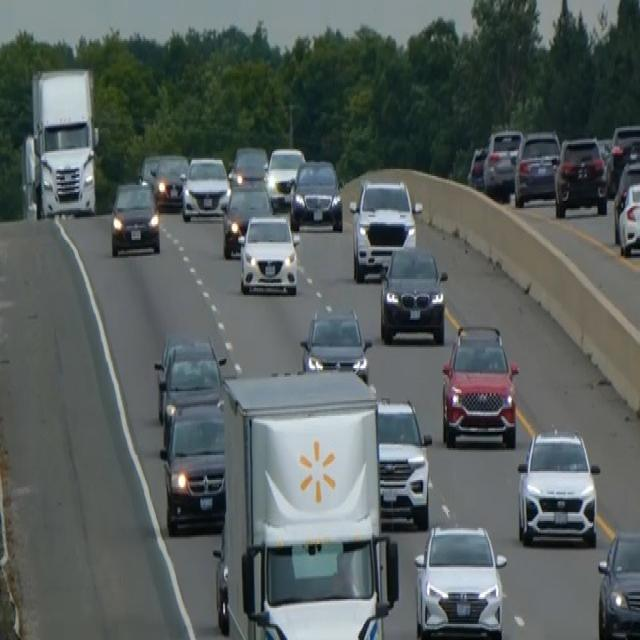car: (412, 521, 507, 638), (516, 425, 600, 547), (440, 322, 519, 448), (159, 396, 226, 534), (348, 176, 421, 281), (375, 395, 432, 528), (379, 244, 448, 343), (153, 331, 226, 423), (299, 304, 371, 380), (237, 212, 298, 295), (596, 528, 639, 638), (551, 135, 608, 217), (220, 178, 273, 258), (289, 156, 343, 233), (110, 178, 160, 256), (513, 128, 561, 206), (181, 153, 229, 220), (482, 126, 523, 196), (613, 156, 639, 255), (265, 144, 305, 206), (606, 122, 639, 194), (153, 151, 188, 208), (228, 144, 268, 187), (466, 144, 487, 190), (138, 151, 160, 189)
lorry: (213, 366, 399, 638), (20, 64, 100, 220)
